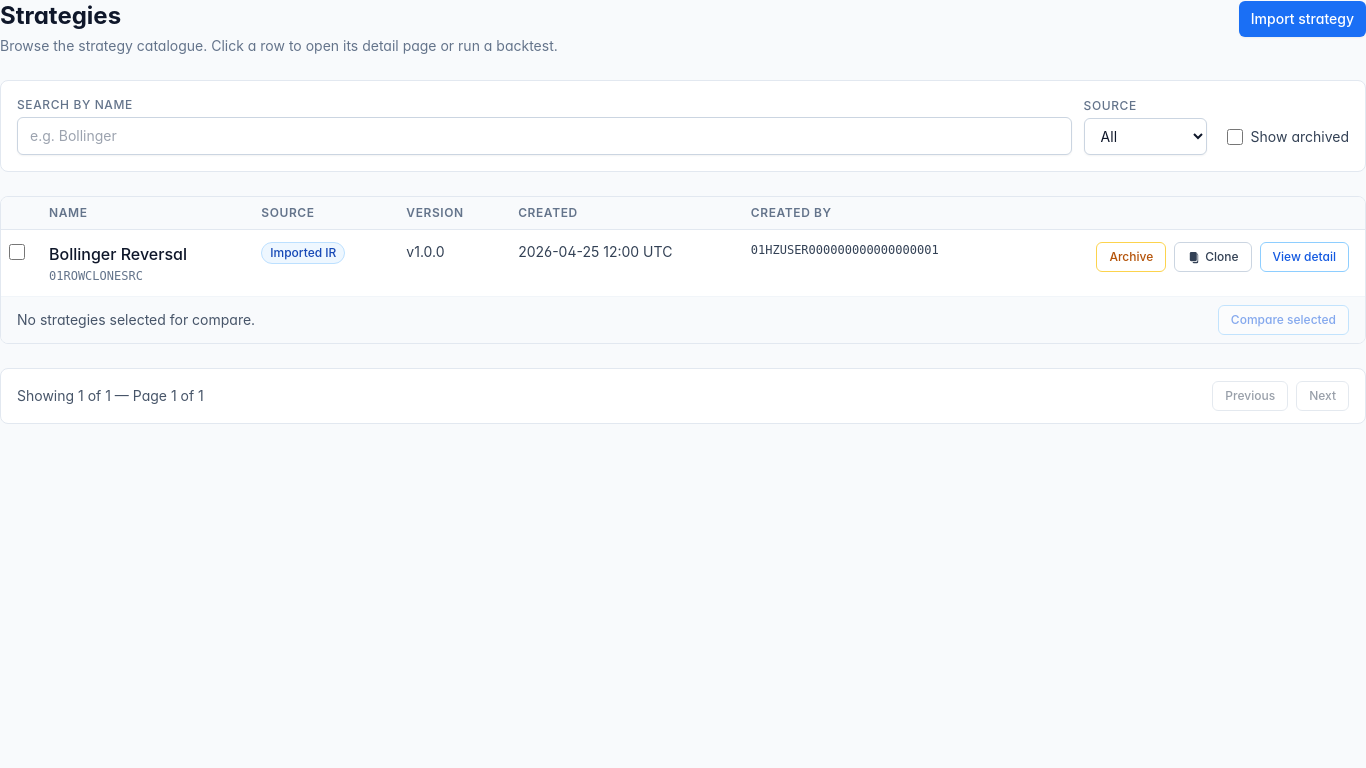
Scenario: Strategies browse page › clicking Cancel dismisses the clone modal without firing the API
Expected: the table with test id "strategies-table" is shown, [1, 197, 1365, 296]
Step 1. Click the button "Clone" → (1213, 257), box [1174, 242, 1252, 272]
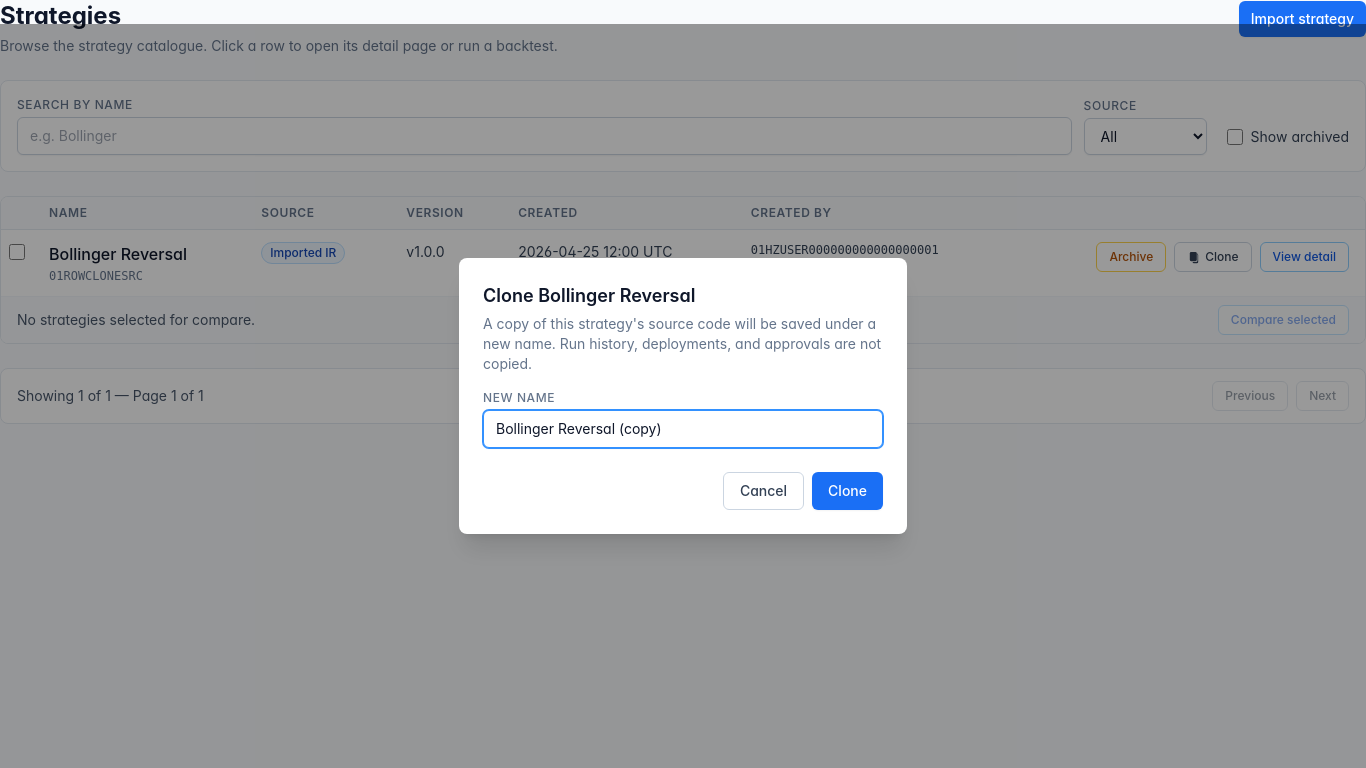
Result: the dialog with test id "strategies-clone-modal" is shown
Step 2. Click the button with test id "strategies-clone-cancel" → (764, 491), box [723, 472, 804, 510]
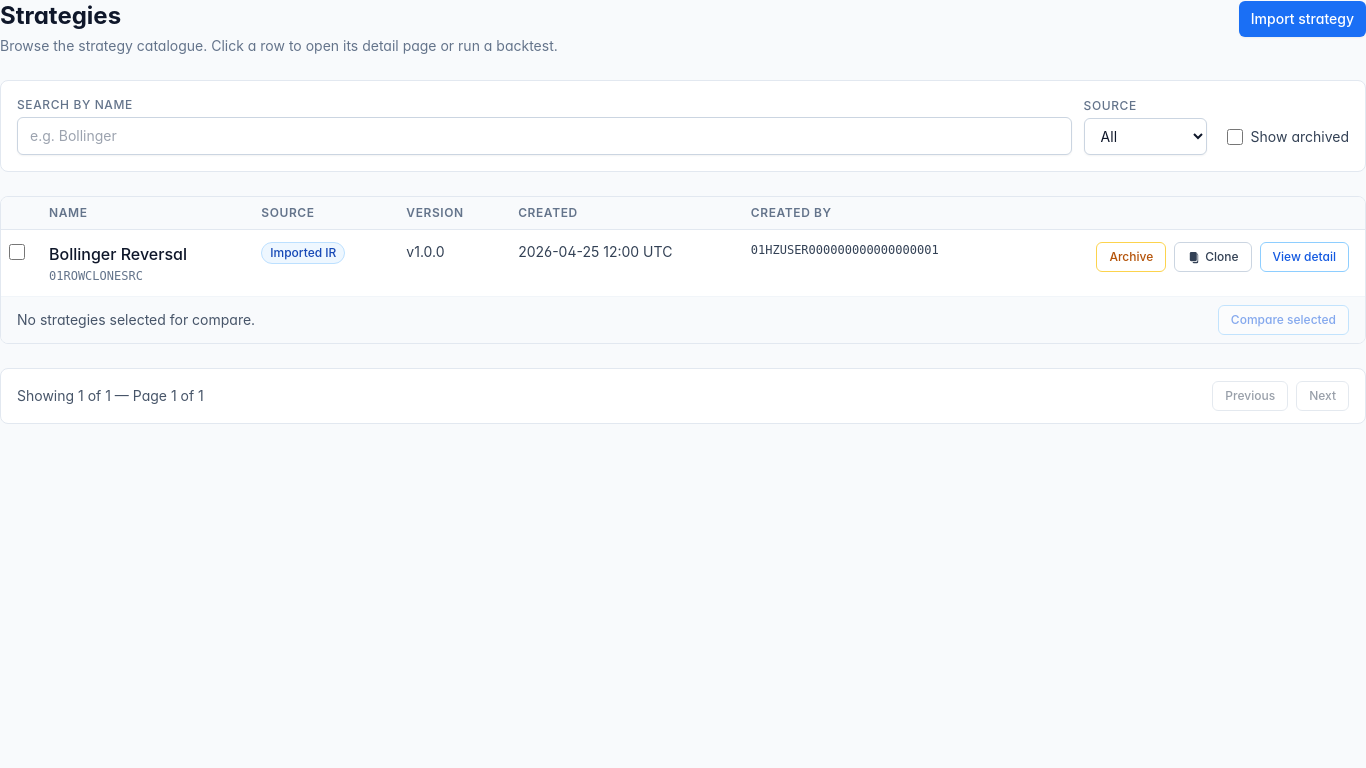
Result: the dialog with test id "strategies-clone-modal" is gone
